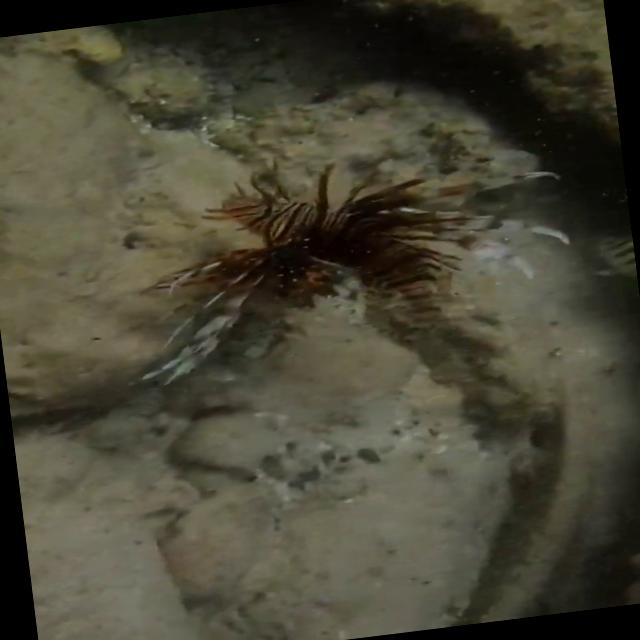Aslan Baligi: (116, 131, 584, 405)
